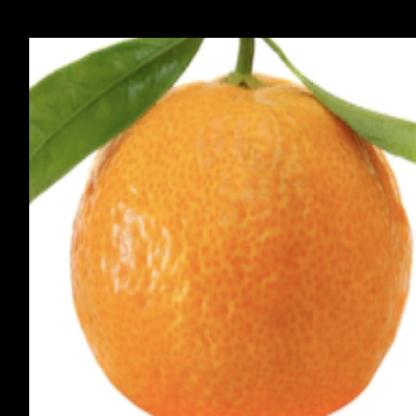fresh: (65, 66, 416, 416)
